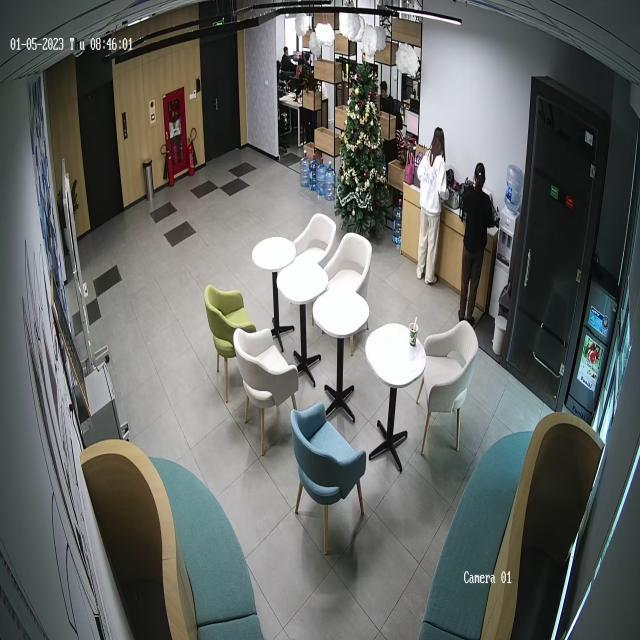person: (458, 161, 499, 326), (415, 126, 447, 286), (378, 81, 397, 115), (279, 39, 297, 74)
